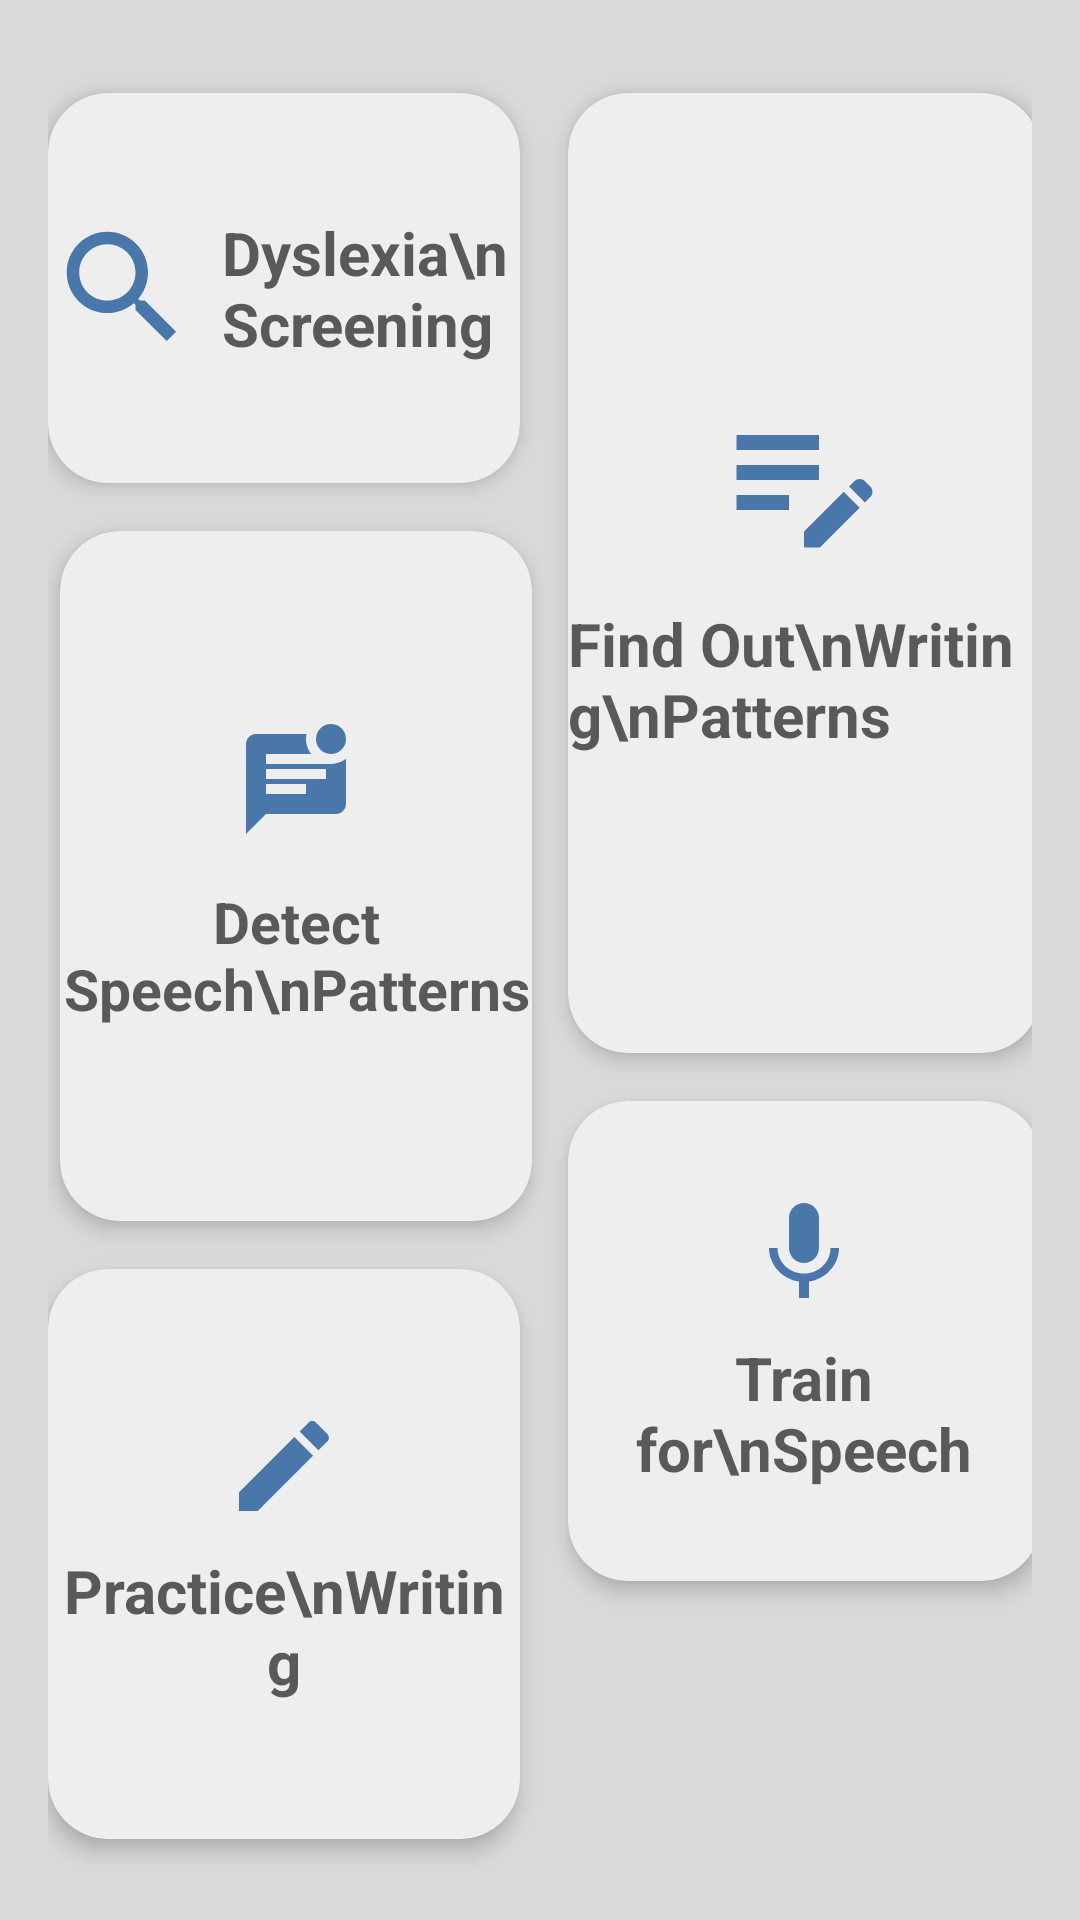

Screen size 1080x1920. Icon name, then its box in pixels as [x1, y1, x2, y2]:
chat: [246, 724, 346, 834]
edit: [239, 1421, 329, 1511]
edit note: [736, 435, 873, 548]
mic: [769, 1203, 839, 1298]
search: [66, 231, 176, 341]
